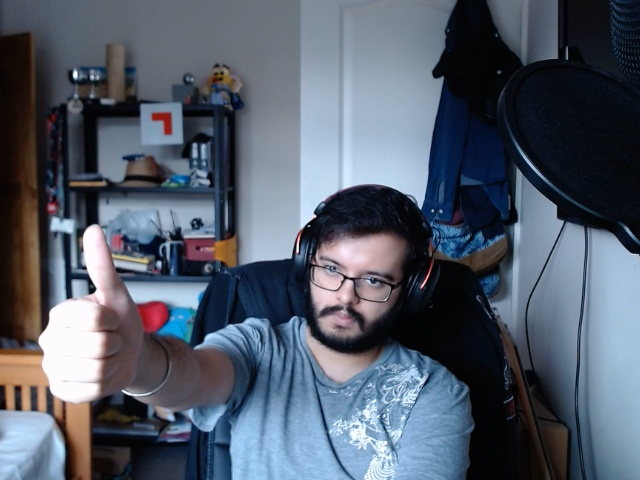Thumbs up: (30, 209, 158, 405)
